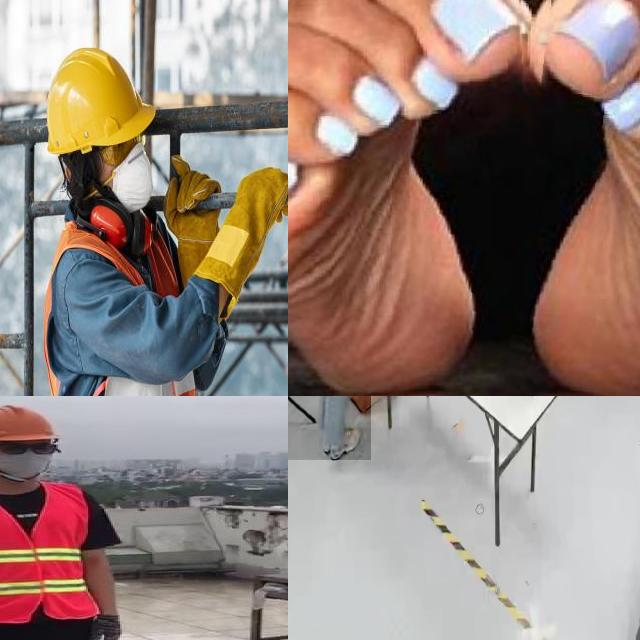Barefoots: (288, 0, 514, 396), (525, 0, 640, 396)
Ear-protection: (72, 191, 157, 254)
glasses: (94, 130, 154, 168)
hand_glove: (196, 160, 288, 318), (158, 150, 218, 288)
head_helmet: (38, 42, 158, 155), (0, 402, 57, 443)
person: (37, 41, 288, 396), (0, 402, 119, 640)
shoes: (327, 418, 363, 465)
vest: (0, 481, 98, 621)
